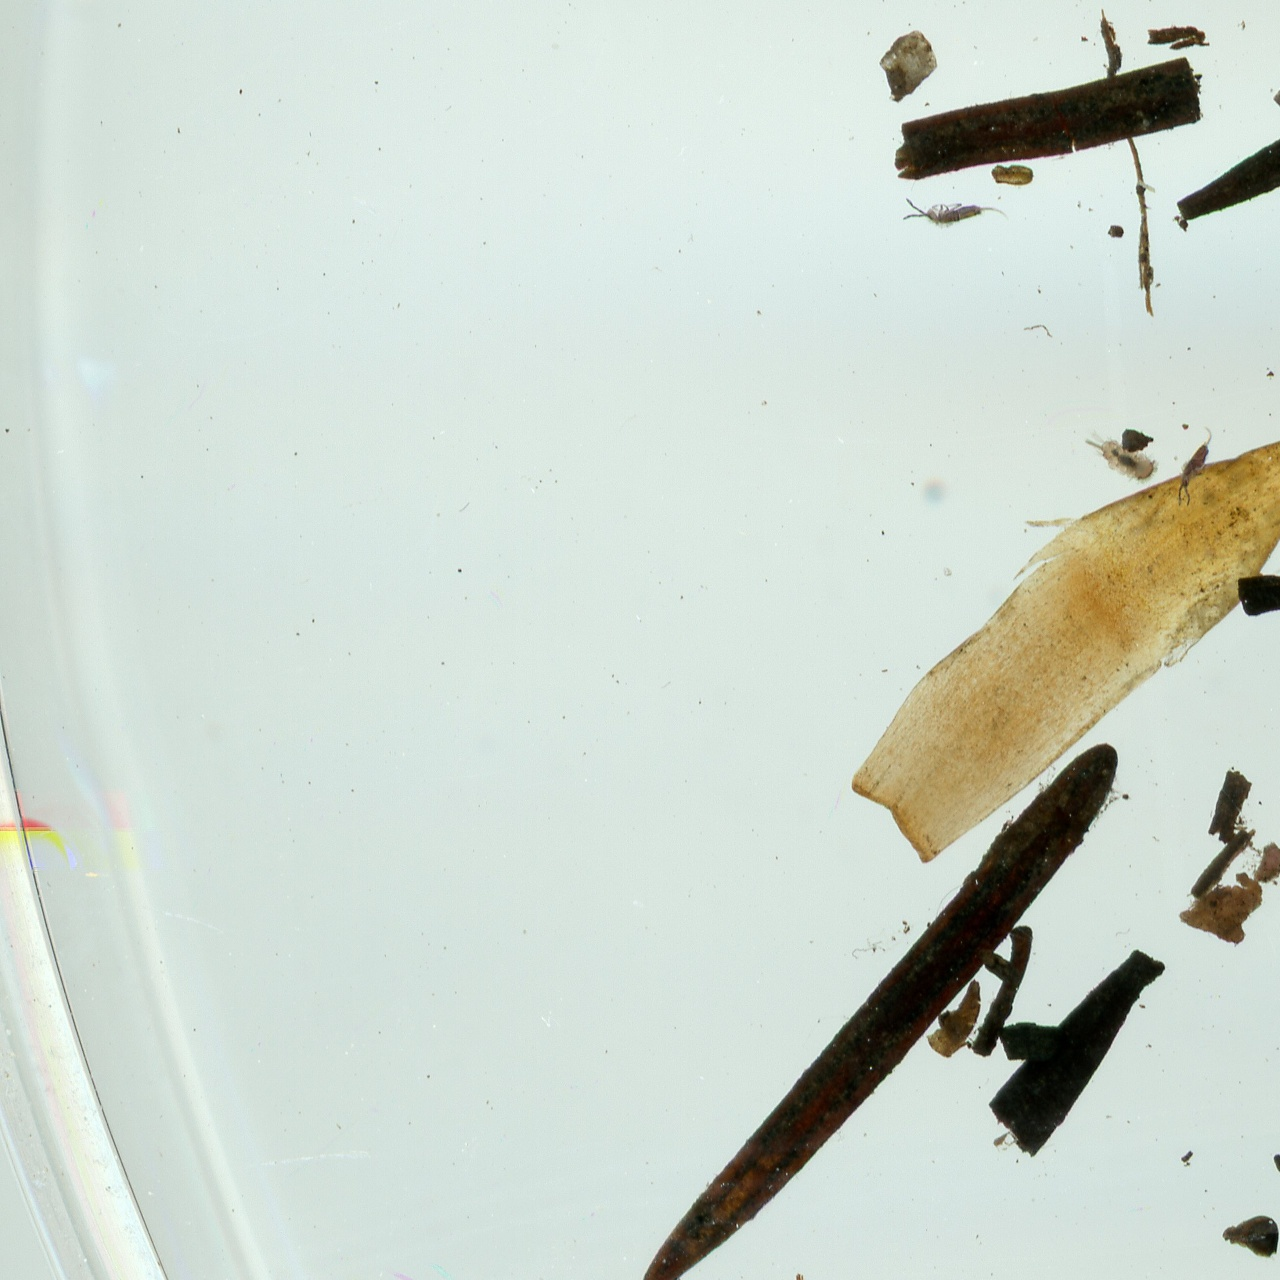arthropod: (1170, 420, 1221, 511), (1084, 428, 1160, 486), (898, 192, 1013, 231)
